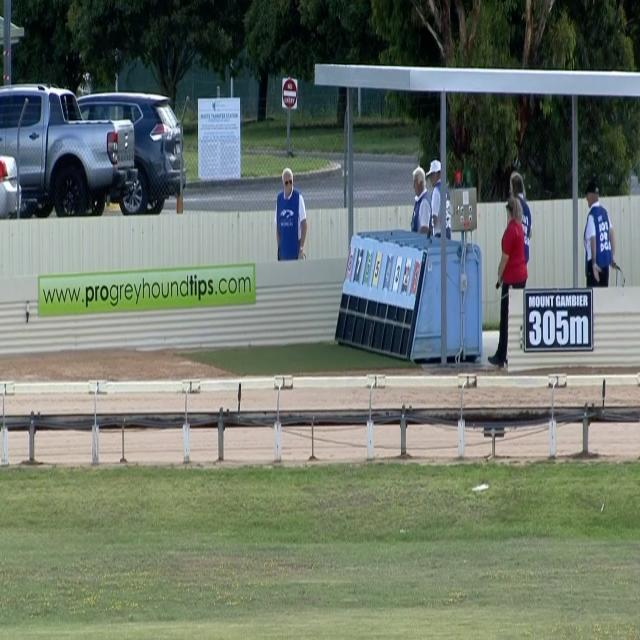rail: (0, 405, 640, 433)
